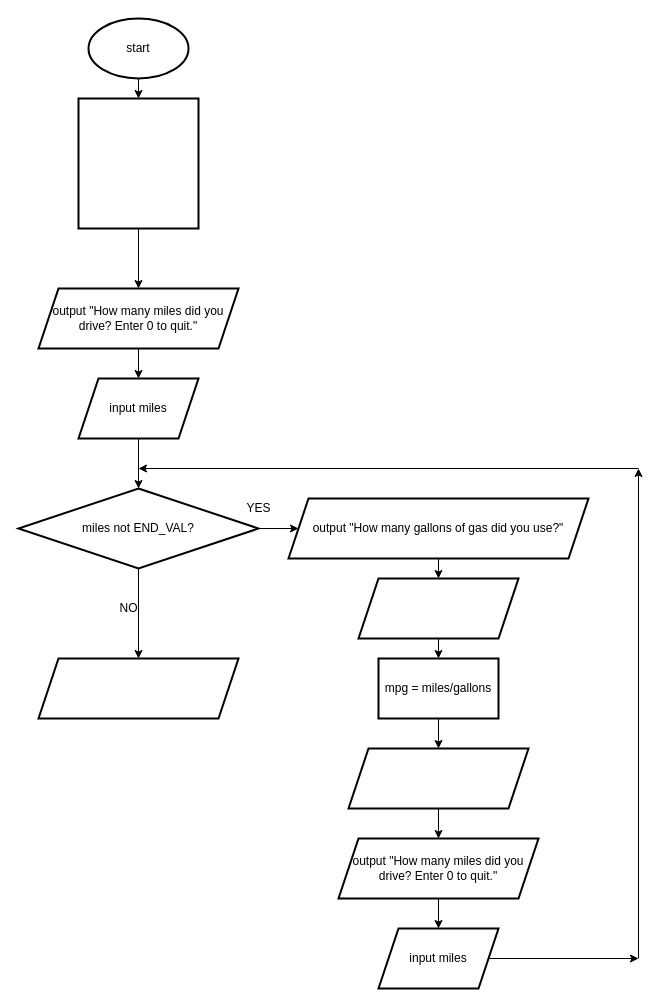
This 664x1006 diagram has some shape labels left out. The centre of each missing label's shape, as x and y in pixels:
Declarations num miles num gallons num mpg num END_VAL = 0: (138,163)
input gallons: (438,608)
output "End of program": (138,688)
output mpg, "miles per gallon": (438,778)
